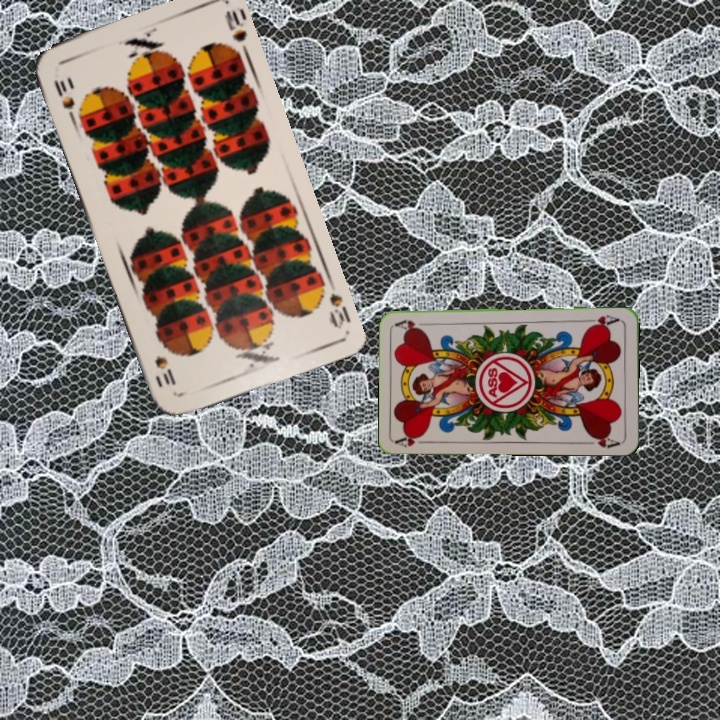HA: (393, 430, 434, 450), (582, 311, 621, 330)
S10: (324, 275, 353, 332), (49, 75, 78, 123)
